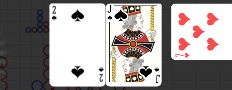2S: (98, 66, 105, 84)
7H: (175, 52, 191, 59)
